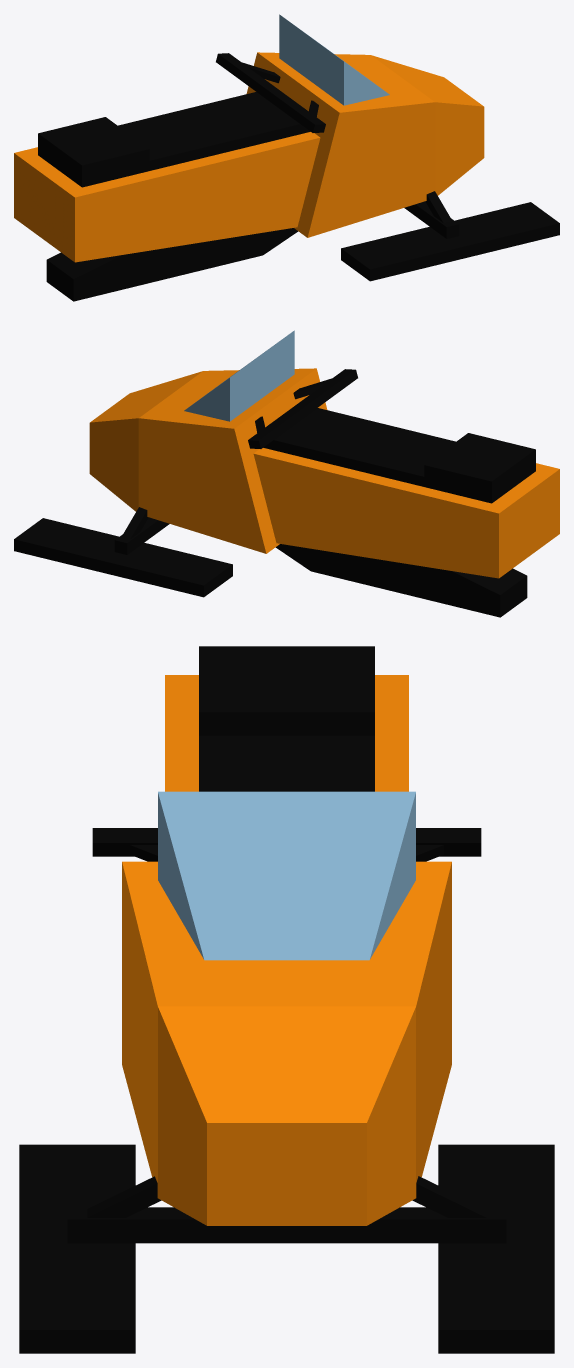
Rendered from Snowmobile_01.fbx.
3 views of the same model, one above another, from view 1: azimuth 30°, elevation 25°; view 2: azimuth 150°, elevation 25°; view 3: azimuth 270°, elevation 25° (orthographic). The views are drawn at different scales.
Parts seen in each view (by area): view 1: Snowmobile_01; view 2: Snowmobile_01; view 3: Snowmobile_01.
Part boxes in pixels (box(x1,y1,x2,y2)): Snowmobile_01: box(14, 14, 559, 301); Snowmobile_01: box(14, 330, 559, 617); Snowmobile_01: box(19, 646, 554, 1353).
Size of the model in its own units: 0.3526 by 0.1445 by 0.1821.
